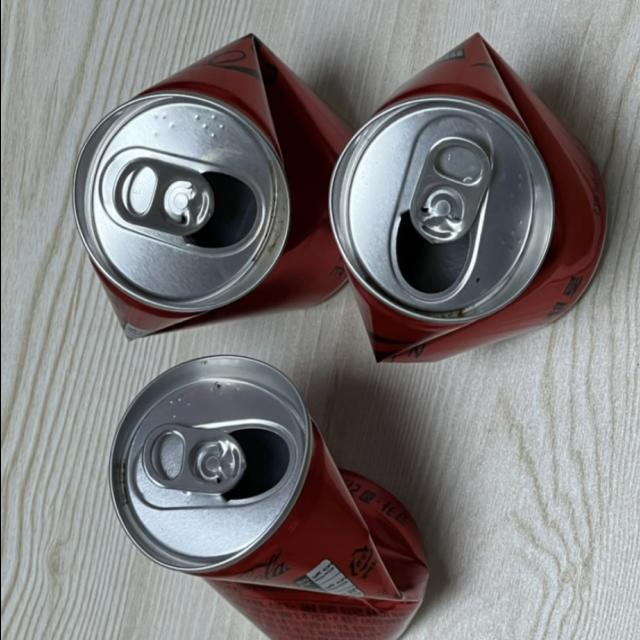can: (67, 354, 455, 638), (312, 28, 616, 382), (59, 21, 359, 358)
